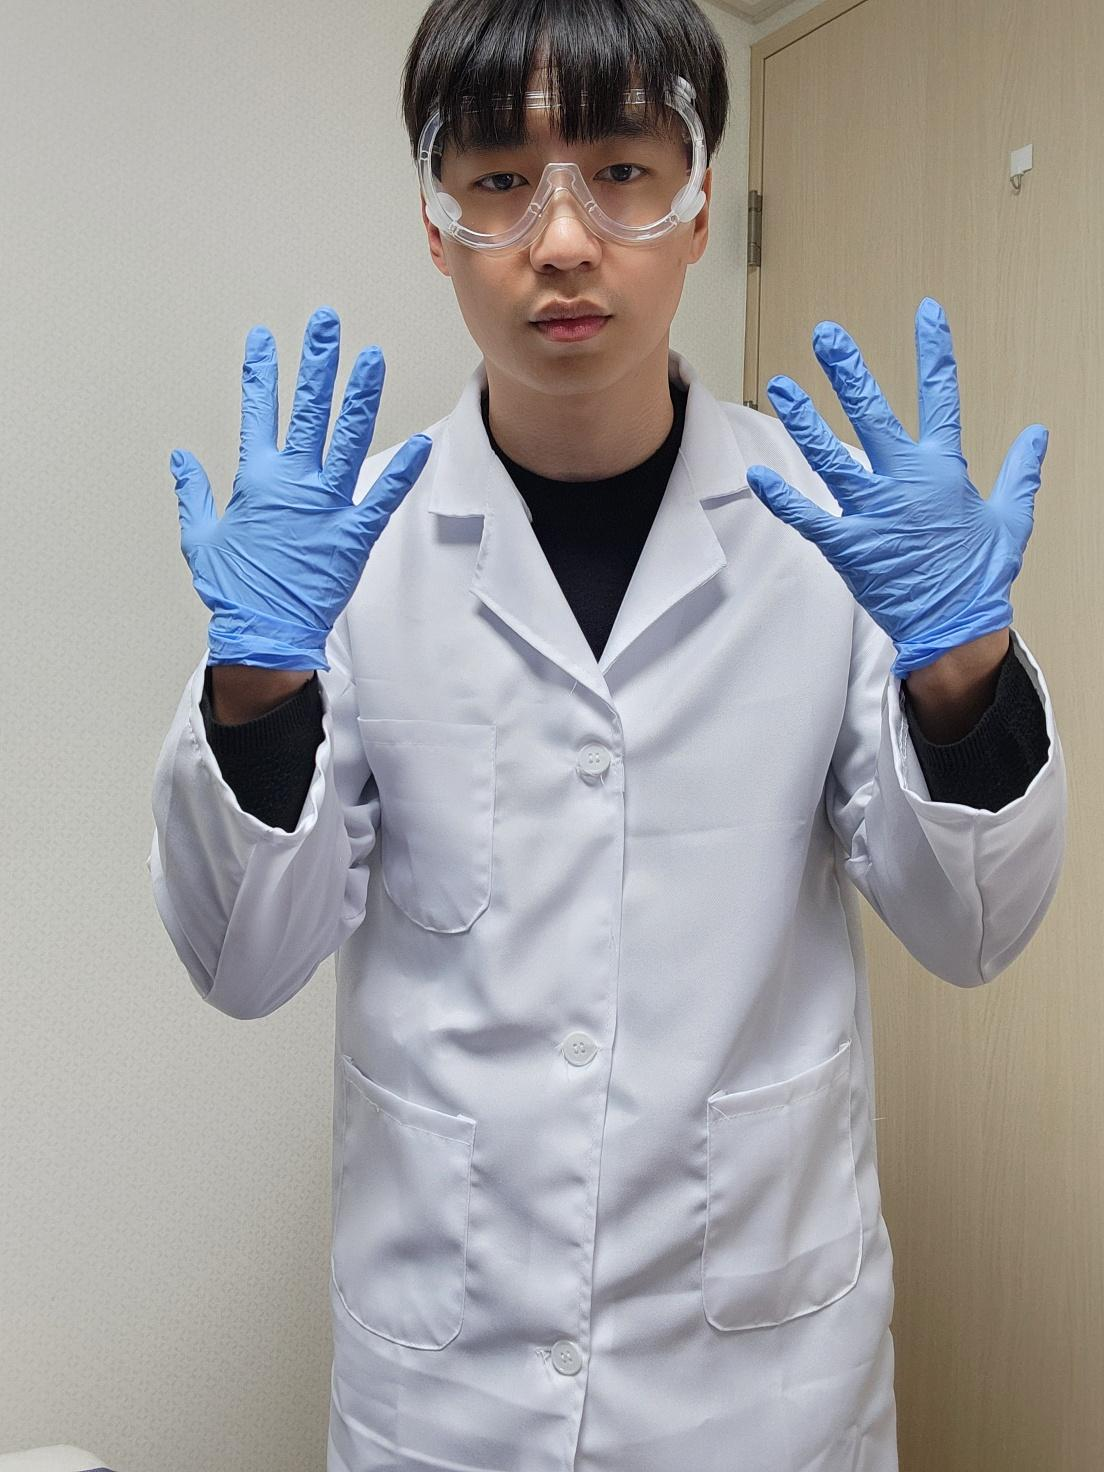lab_coat: (152, 348, 1067, 1471)
